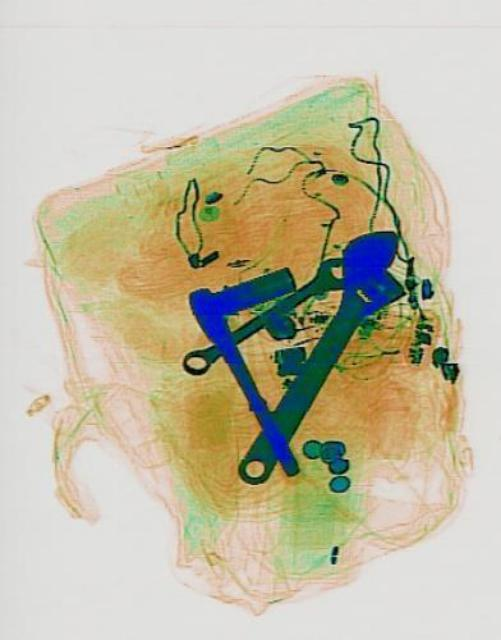Wrench: (207, 208, 424, 500), (174, 247, 353, 386)
